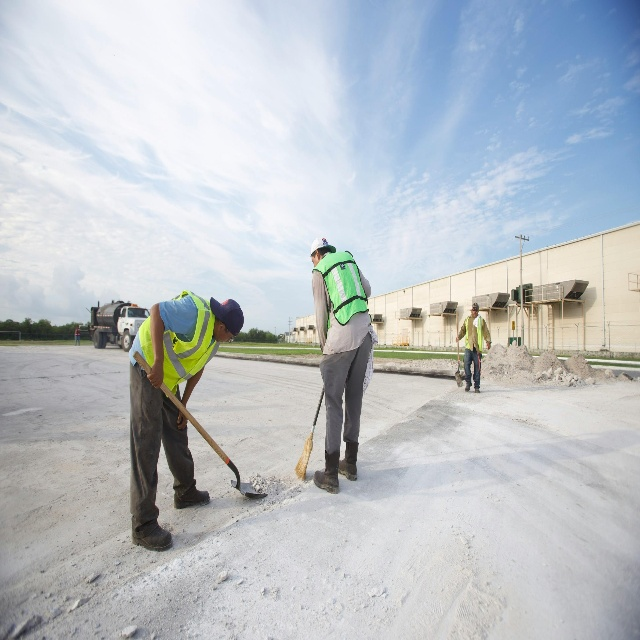Gafas: (226, 327, 235, 344), (472, 307, 479, 312)
Sin_guantes: (147, 360, 164, 390), (177, 399, 189, 429), (485, 340, 491, 350), (455, 335, 460, 342)
